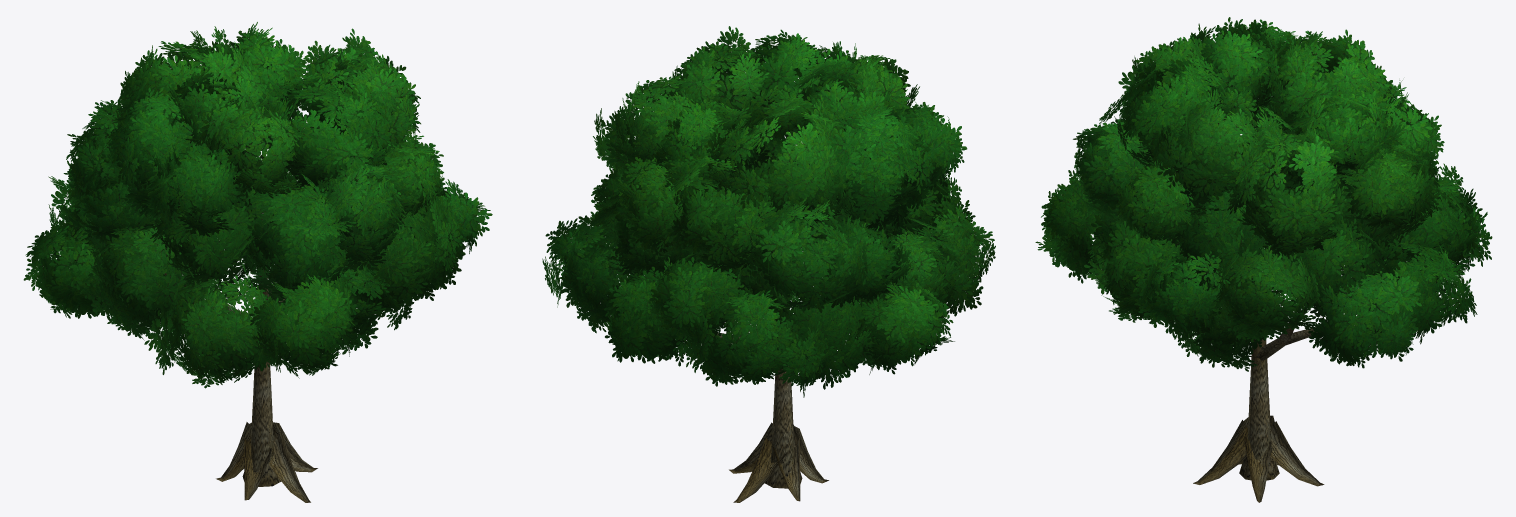
File: mm6_deco_tree19.glb
3 views of the same model, side by side, from view 1: azimuth 30°, elevation 25°; view 2: azimuth 150°, elevation 25°; view 3: azimuth 270°, elevation 25° (orthographic). The views are drawn at different scales.
Parts seen in each view (by area): view 1: Tree; view 2: Tree; view 3: Tree.
Boxes of the visible parts, box(x1,y1,x2,y2) form: Tree: box(23, 22, 492, 502); Tree: box(542, 26, 995, 502); Tree: box(1035, 17, 1492, 502).
Size of the model in its own units: 3.79 by 4 by 3.9.
Materials: 2 (2 with a texture image).
